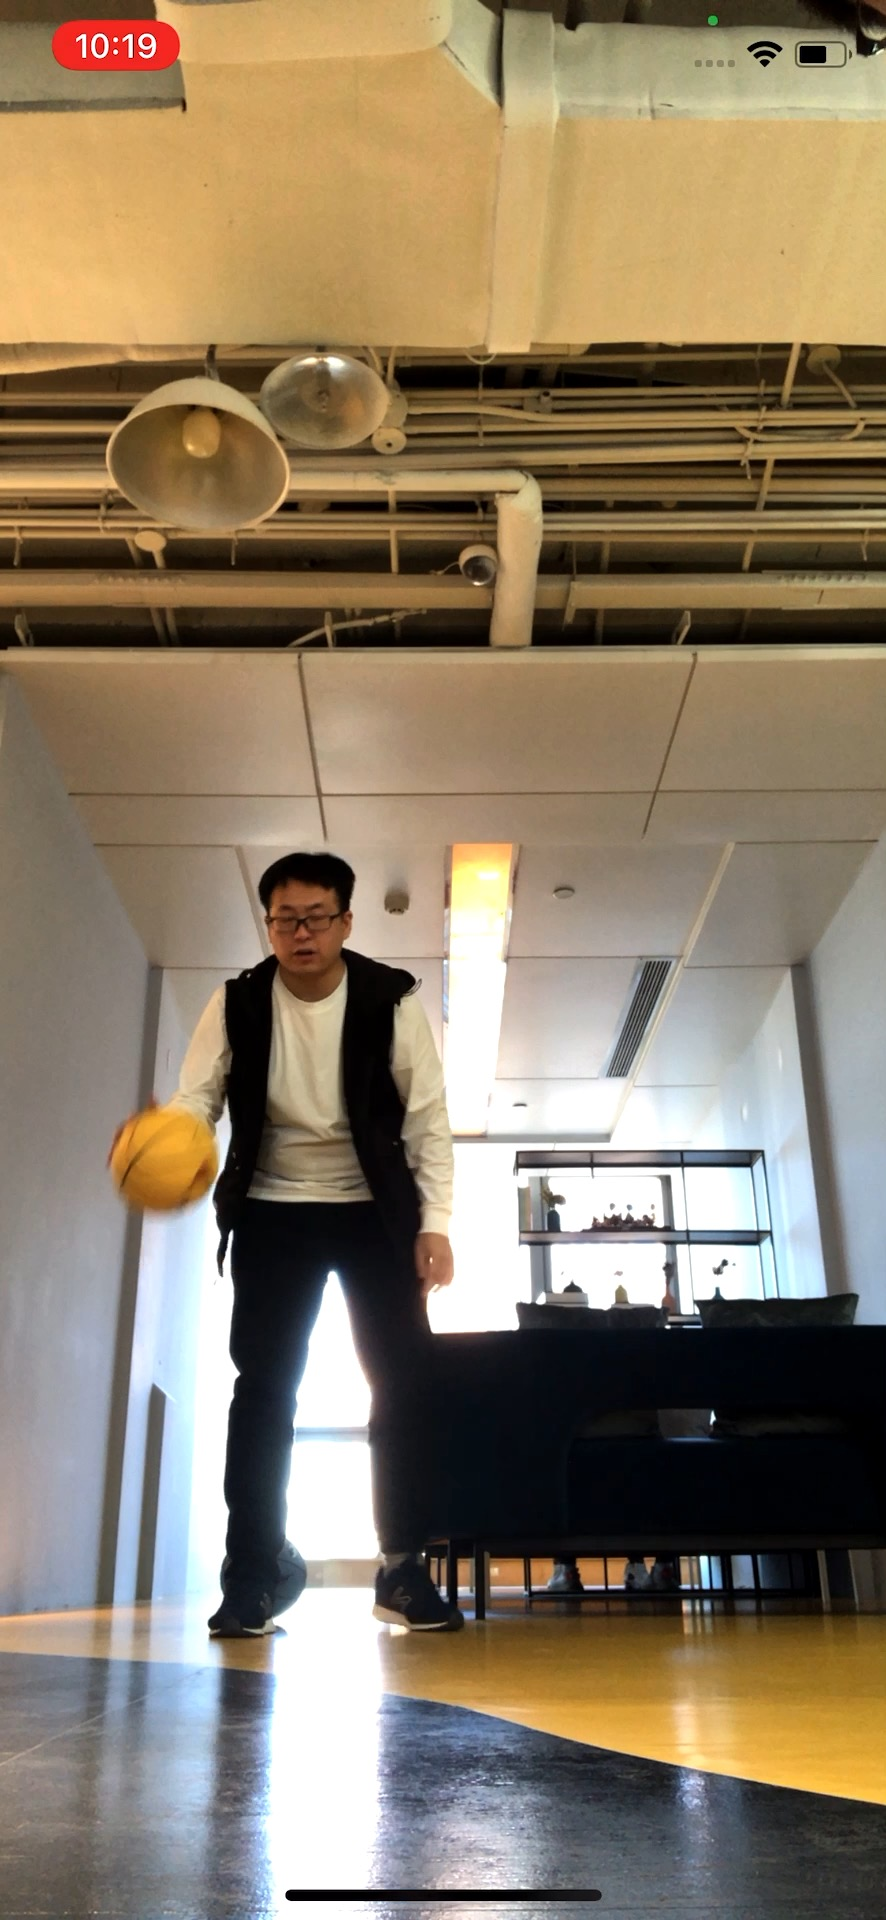ball: (114, 1104, 217, 1216)
